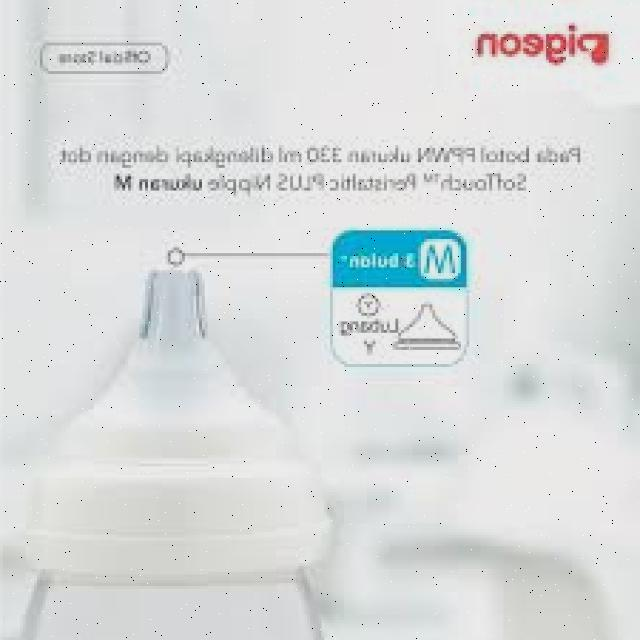bottle: (22, 255, 314, 592)
